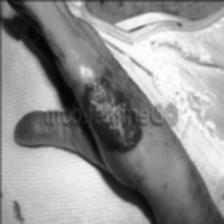Potentially Malignant Skin Tumors: (76, 75, 136, 103)
